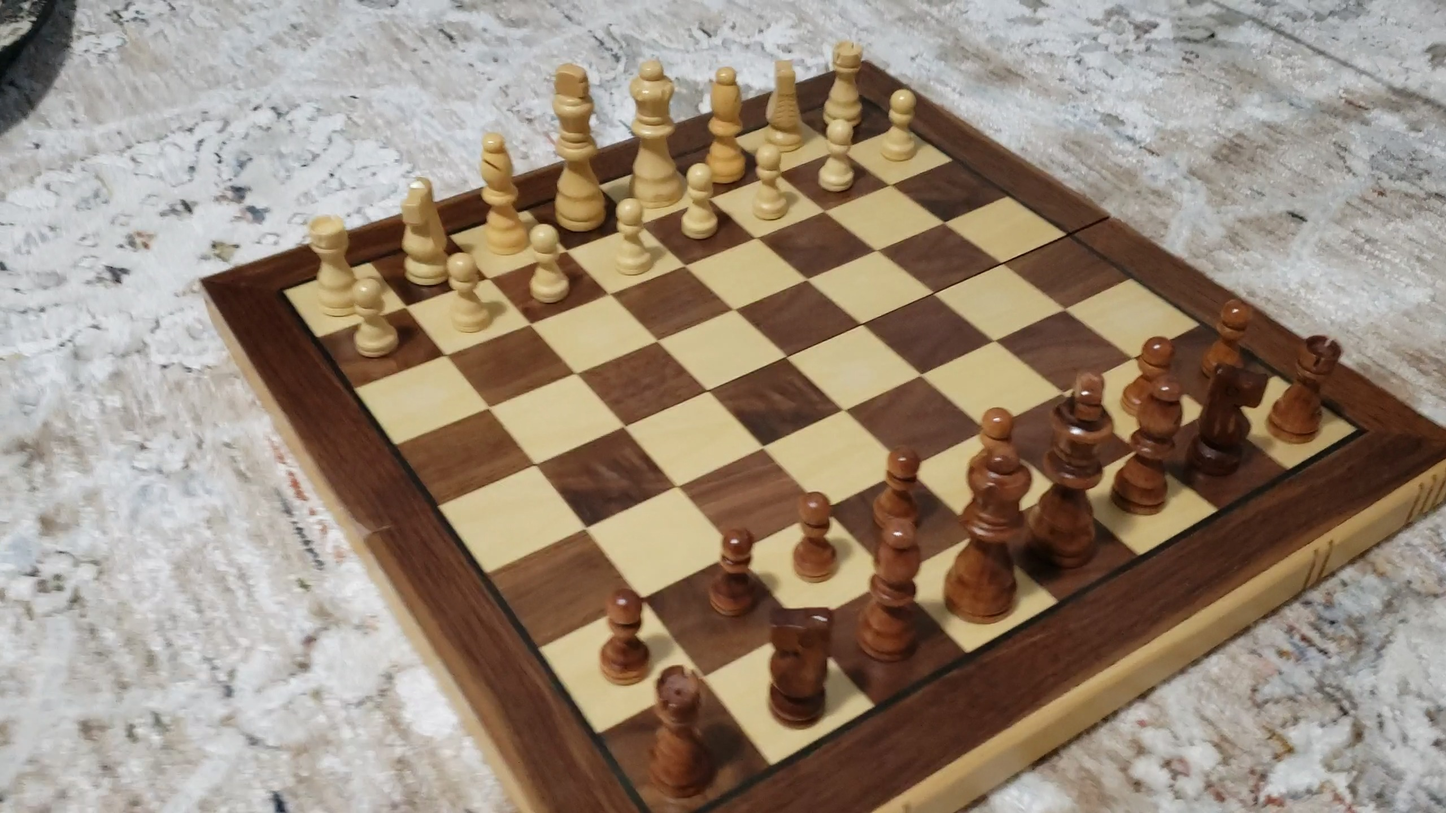black-bishop: (857, 499, 924, 664), (1112, 375, 1189, 515)
black-king: (1025, 369, 1121, 572)
black-knight: (766, 606, 833, 727), (1190, 360, 1257, 477)
black-pawn: (595, 584, 653, 689), (1117, 333, 1179, 426), (963, 402, 1020, 503), (1196, 294, 1258, 382), (705, 523, 759, 620), (790, 487, 839, 584), (873, 440, 924, 528)
black-queen: (942, 440, 1035, 626)
black-rook: (642, 665, 720, 805), (1268, 333, 1344, 443)
white-bishop: (476, 126, 526, 258), (703, 63, 746, 186)
white-king: (548, 55, 607, 238)
white-knight: (398, 175, 448, 291), (764, 53, 806, 154)
white-pawn: (342, 270, 406, 364), (438, 248, 498, 338), (521, 220, 575, 311), (604, 195, 660, 282), (742, 137, 796, 226), (672, 158, 726, 246), (811, 110, 863, 200), (875, 83, 925, 167)
white-queen: (627, 54, 682, 212)
white-rook: (304, 210, 360, 320), (824, 36, 866, 138)
